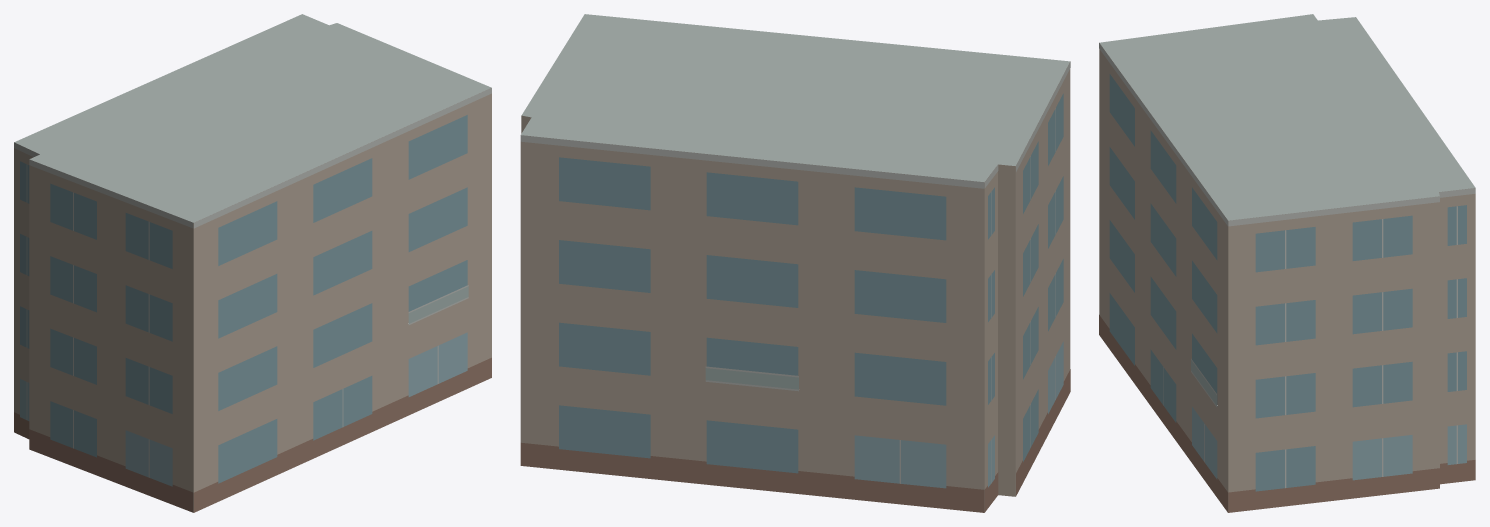
Rendered from survey-upis-32709772.glb.
3 views of the same model, side by side, from view 1: azimuth 30°, elevation 25°; view 2: azimuth 150°, elevation 25°; view 3: azimuth 270°, elevation 25° (orthographic). The views are drawn at different scales.
Parts seen in each view (by area): view 1: survey-upis-32709772.tmp; view 2: survey-upis-32709772.tmp; view 3: survey-upis-32709772.tmp.
Boxes of the visible parts, x1,y1,x2,y2 form: survey-upis-32709772.tmp: (14,14,491,512); survey-upis-32709772.tmp: (520,14,1070,512); survey-upis-32709772.tmp: (1099,14,1475,512).
Bounding box in the file's own units: 18.51 × 12.2 × 14.25.
